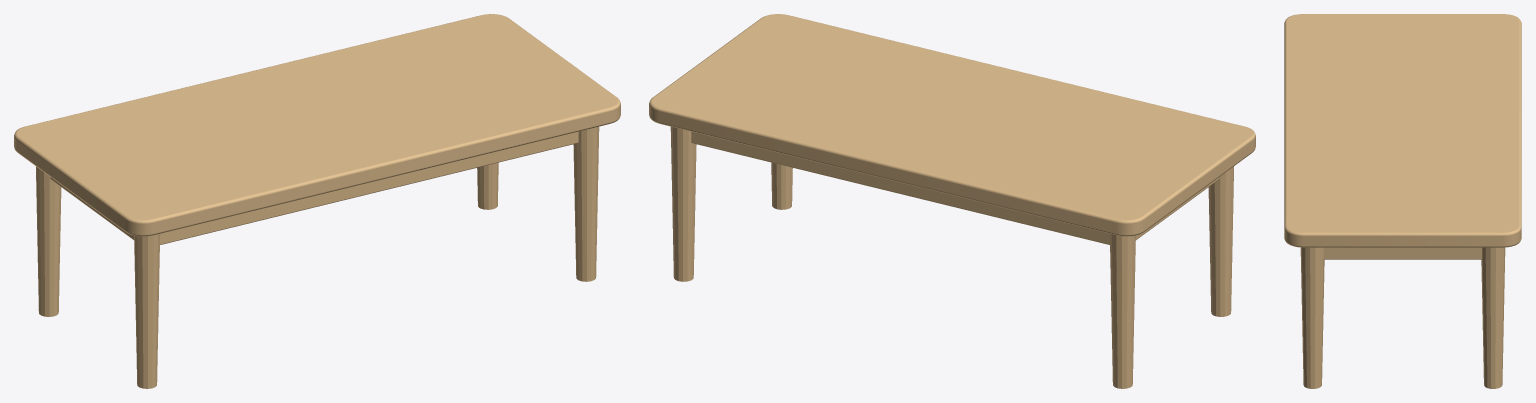
The model's file is table_low_rect__w110.glb.
3 renders of one model, left to right at view 1: azimuth 30°, elevation 25°; view 2: azimuth 150°, elevation 25°; view 3: azimuth 270°, elevation 25°, orthographic. The views are drawn at different scales.
Parts seen in each view (by area): view 1: table_low_rect__w110; view 2: table_low_rect__w110; view 3: table_low_rect__w110.
Part boxes in pixels (x1,y1,x2,y2): table_low_rect__w110: (14,14,620,388); table_low_rect__w110: (649,14,1255,388); table_low_rect__w110: (1284,14,1521,388).
Size of the model in its own units: 1.1 by 0.38 by 0.5.
